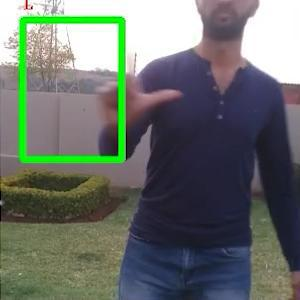land_hand: (96, 32, 184, 124)
